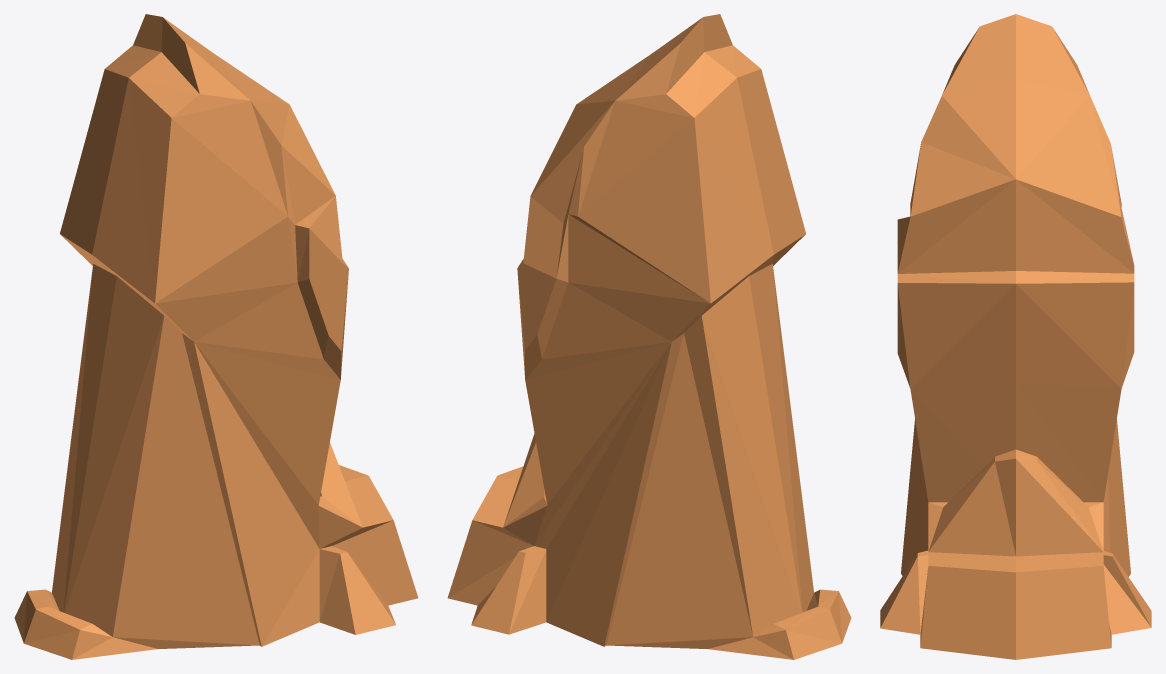
Rendered from Rock_Large_Canyon_Eroded_22.FBX.
3 renders of one model, left to right at view 1: azimuth 30°, elevation 25°; view 2: azimuth 150°, elevation 25°; view 3: azimuth 270°, elevation 25°, orthographic. The views are drawn at different scales.
Parts seen in each view (by area): view 1: Rock_Large_Canyon_Eroded_22; view 2: Rock_Large_Canyon_Eroded_22; view 3: Rock_Large_Canyon_Eroded_22.
Boxes of the visible parts, box(x1,y1,x2,y2) form: Rock_Large_Canyon_Eroded_22: box(14, 14, 418, 659); Rock_Large_Canyon_Eroded_22: box(447, 14, 851, 659); Rock_Large_Canyon_Eroded_22: box(880, 14, 1151, 659).
Bounding box in the file's own units: 7640 × 11740 × 5317.
